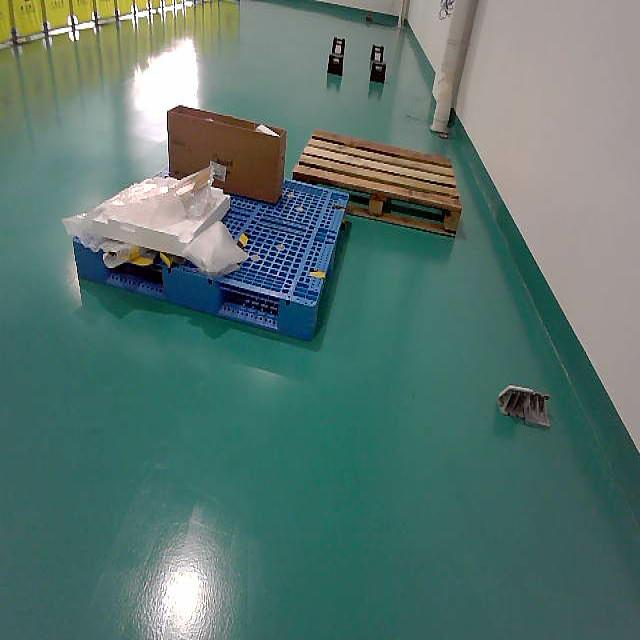euro: (292, 131, 463, 239)
